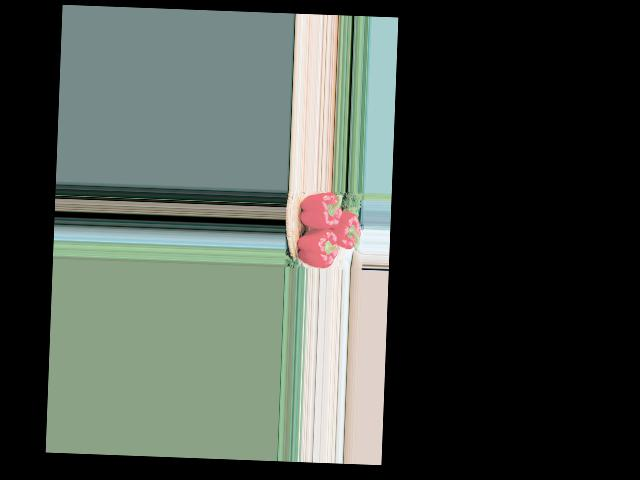bell_pepper: (294, 191, 343, 234)
